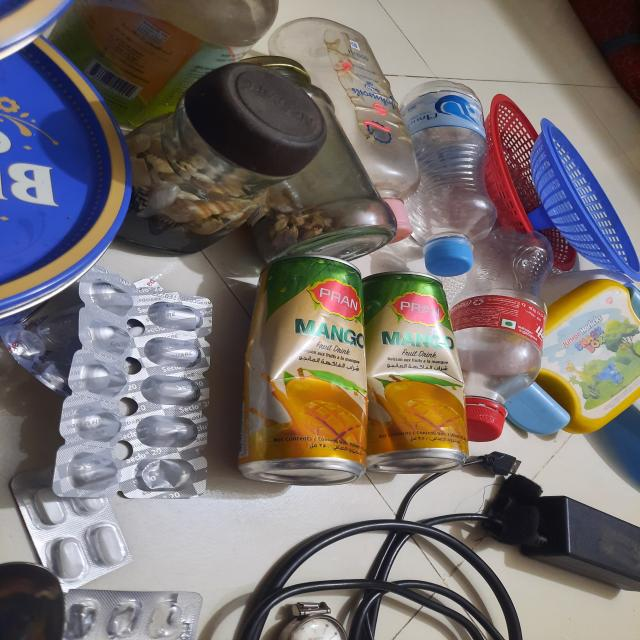Cable: (240, 490, 640, 640)
Glass: (142, 0, 396, 265)
Medical Waste: (34, 279, 217, 639)
Plastics: (341, 20, 640, 254), (486, 262, 640, 470)
can: (234, 260, 470, 478), (0, 0, 129, 319)
